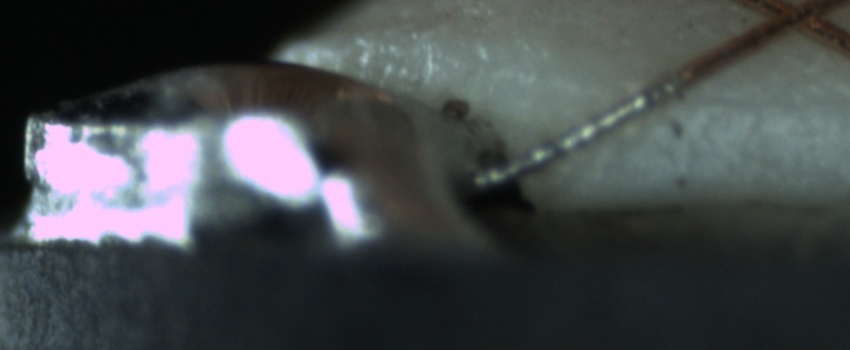CL: (751, 0, 836, 43)
DL: (651, 69, 850, 133)
TS: (466, 73, 680, 190)
TTCW: (470, 48, 729, 199)
